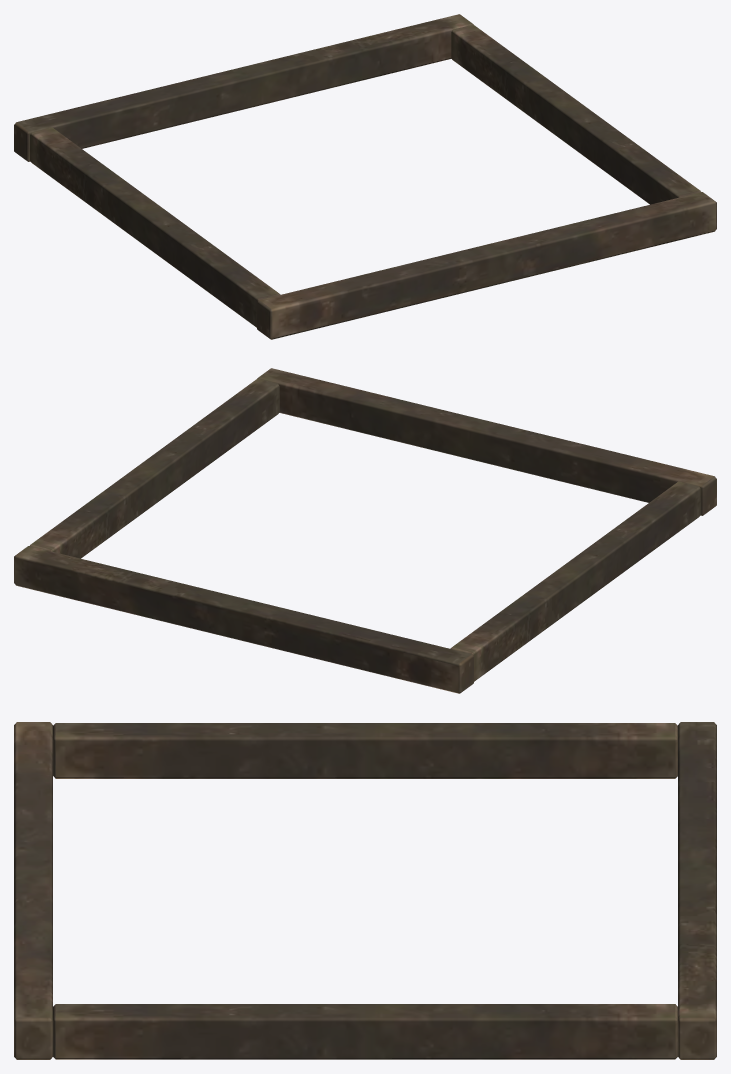
File: floor.frame.frontier.glb
The picture shows the model from 3 angles, top to bottom: view 1: azimuth 30°, elevation 25°; view 2: azimuth 150°, elevation 25°; view 3: azimuth 270°, elevation 25°; orthographic projection. The views are drawn at different scales.
Parts seen in each view (by area): view 1: model; view 2: model; view 3: model.
Part boxes in pixels (x1,y1,x2,y2): model: (14, 14, 716, 339); model: (14, 368, 716, 693); model: (14, 722, 716, 1059).
Bounding box in the file's own units: 3.03 × 0.2 × 3.02.
Materials: 1 (1 with a texture image).
